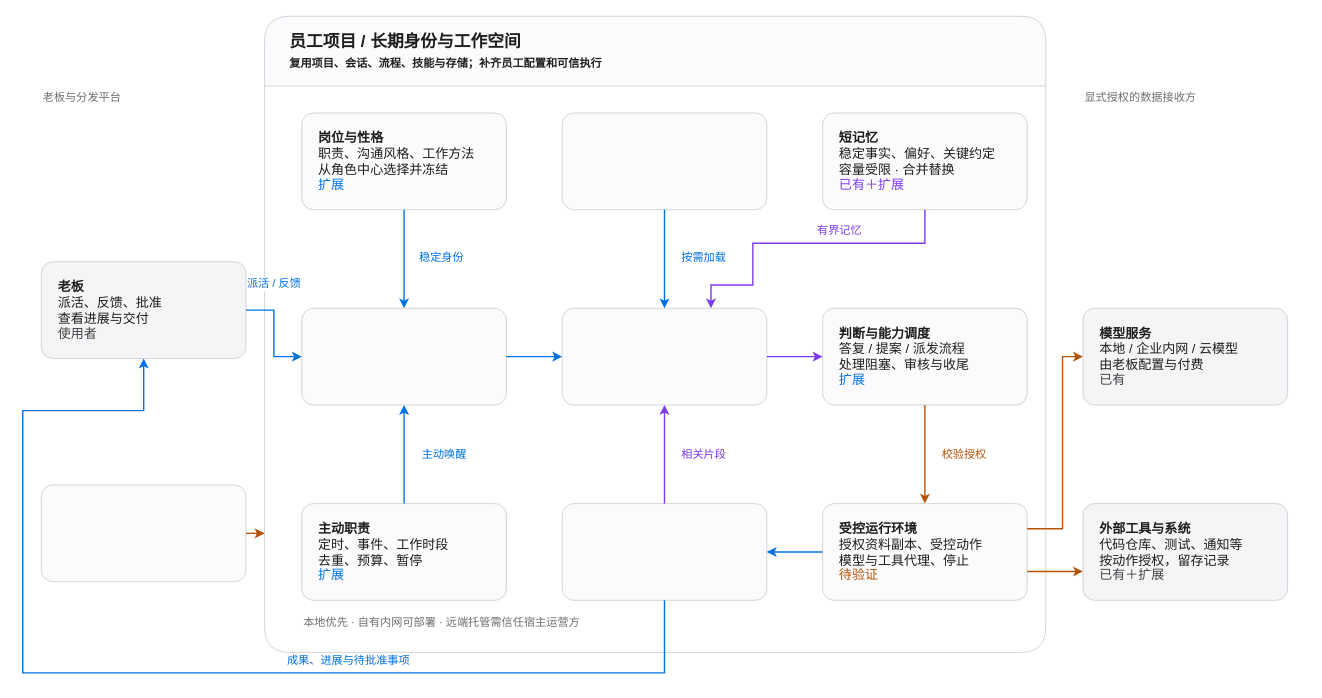
Image size: 1322x698. Some labels were removed from this diagram. The centre of each missing label's shape, as x and y in pixels:
"Skills 与工作流 方法、脚本与多步骤执行 只加载当次需要的能力 已有＋扩展" goes at pixel 664 161.
"上下文组装 短记忆 + 相关历史 + 技能 统一预算、来源、版本 新增／统一" goes at pixel 664 356.
"员工对话与主动入口 老板派活 / 事件或定时唤醒 同一身份，多段会话 扩展" goes at pixel 403 356.
"员工订阅平台 岗位、技能、流程模板 版本、订阅与安装 新增" goes at pixel 143 533.
"工作空间与历史 文件、任务、对话、产物 完整证据保存 · 按需检索 已有＋扩展" goes at pixel 664 551.
